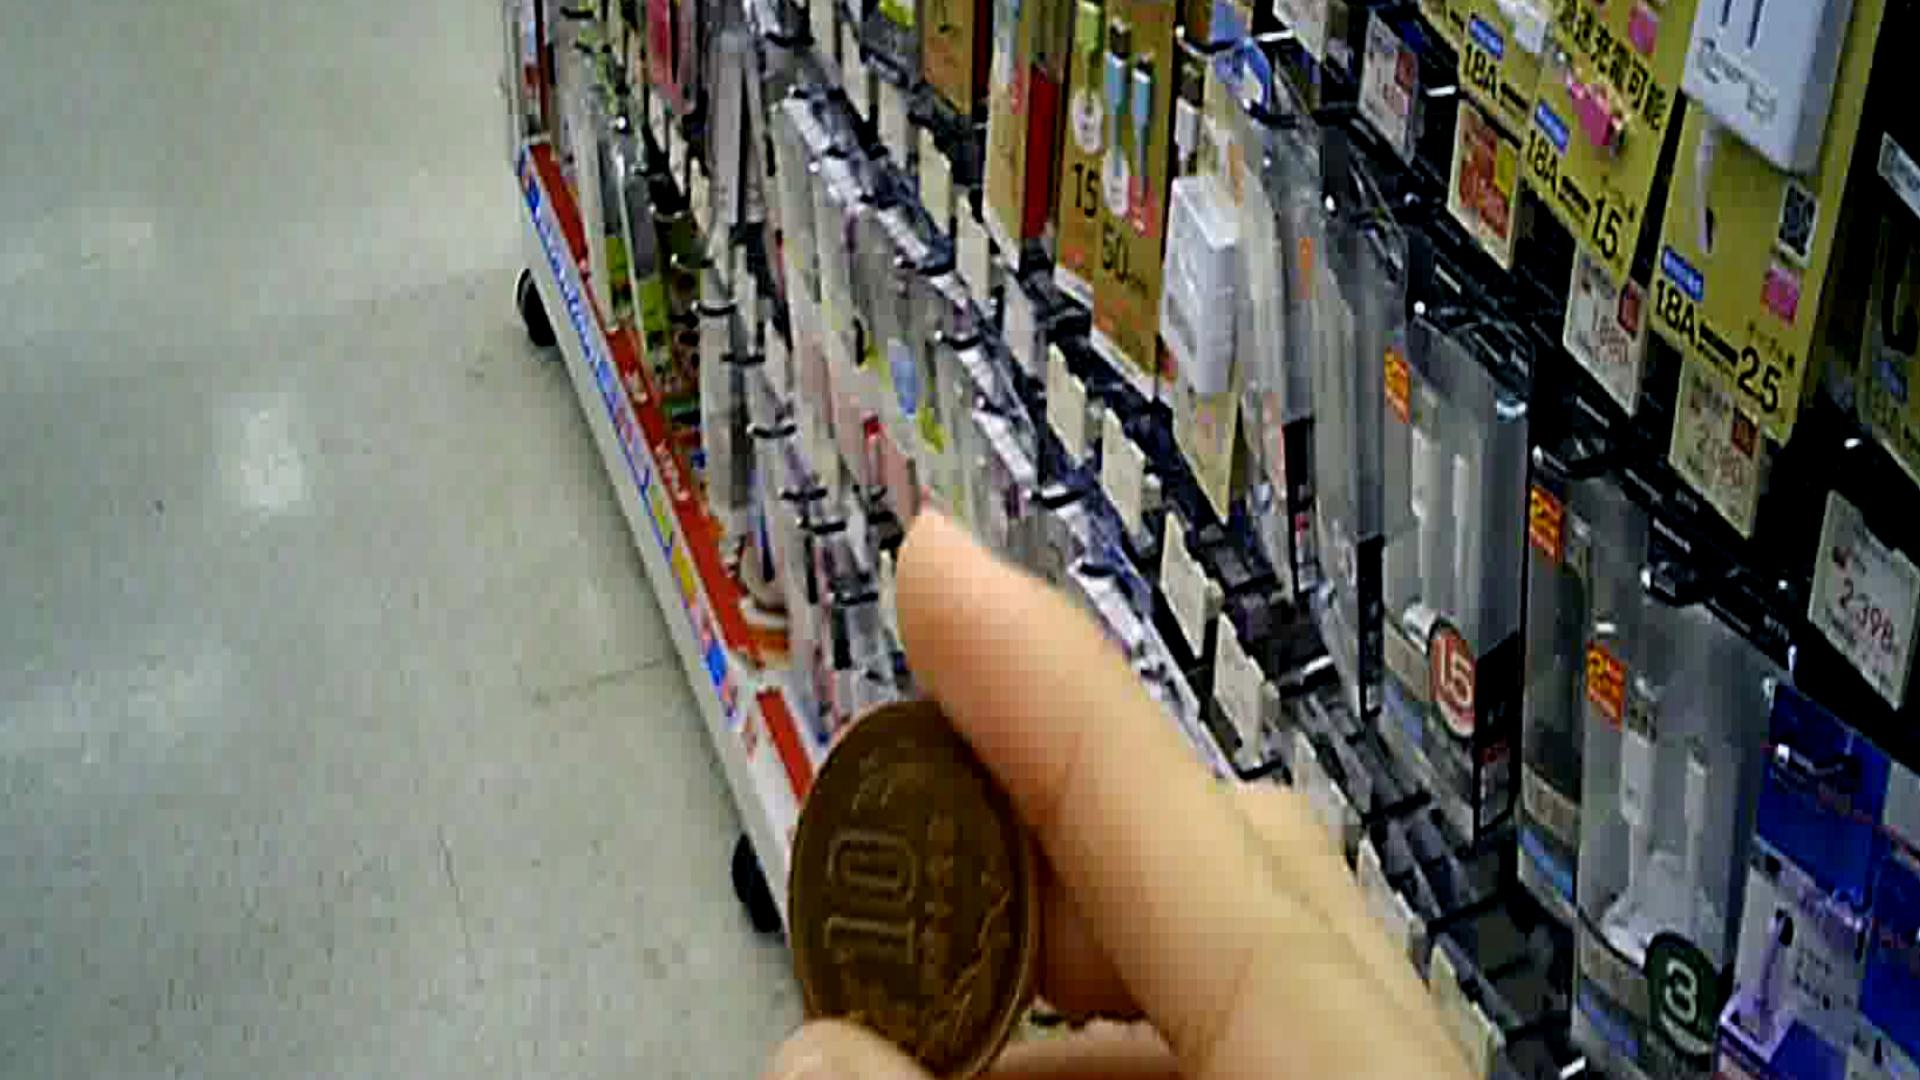10 Yen: (777, 676, 1033, 1072)
